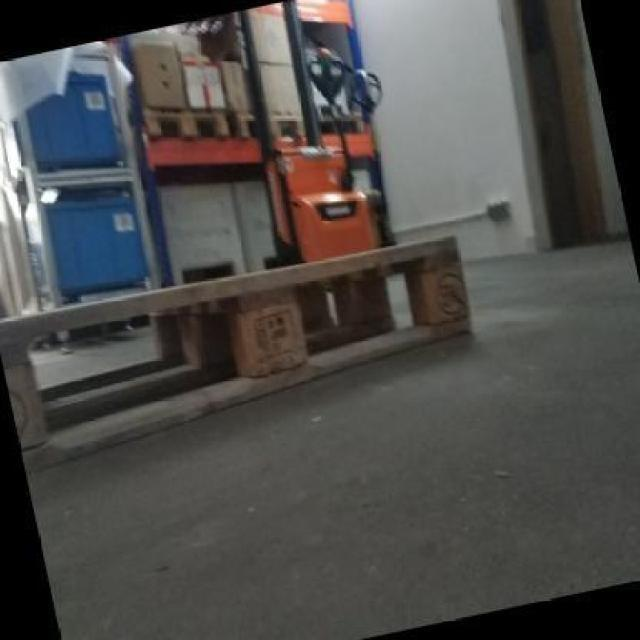cardboard box: (157, 179, 280, 285), (23, 72, 125, 172), (227, 288, 309, 378), (132, 43, 188, 108), (183, 64, 227, 110), (218, 61, 253, 115), (143, 112, 163, 137)
forklift: (250, 1, 388, 256)
freight container: (38, 184, 150, 302), (157, 179, 280, 285)
